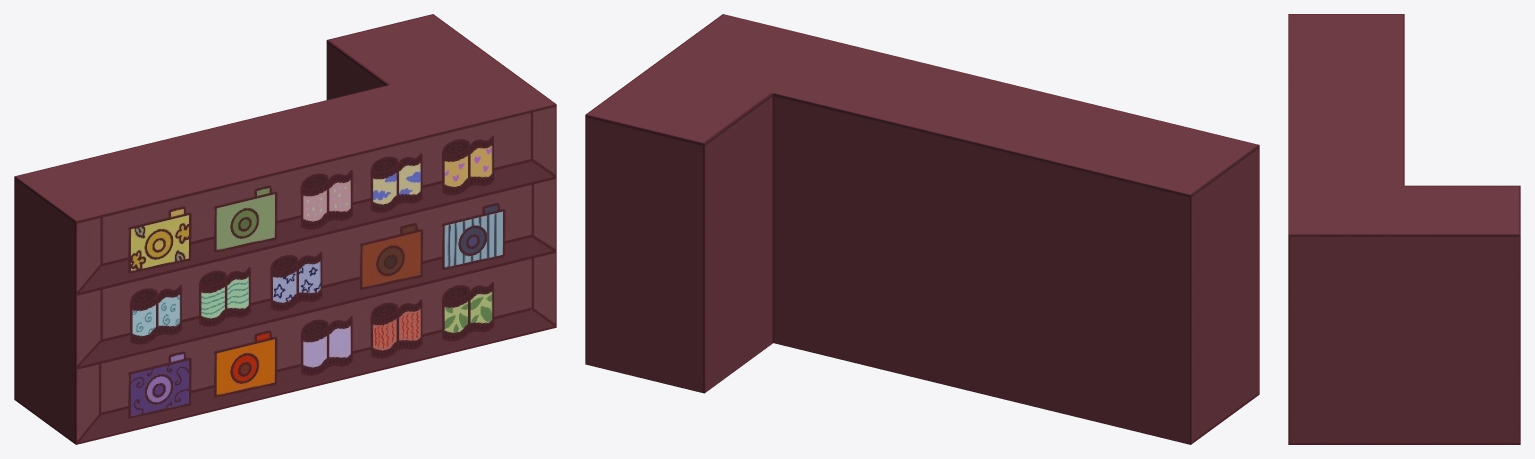
The model's file is Camera_Shelf.fbx.
3 views of the same model, side by side, from view 1: azimuth 30°, elevation 25°; view 2: azimuth 150°, elevation 25°; view 3: azimuth 270°, elevation 25° (orthographic). The views are drawn at different scales.
Parts seen in each view (by area): view 1: Box001; view 2: Box001; view 3: Box001.
Part boxes in pixels (x1,y1,x2,y2): Box001: (14,14,556,444); Box001: (585,14,1259,444); Box001: (1288,14,1520,444).
Size of the model in its own units: 90 by 40 by 40.
Materials: 1 (1 with a texture image).
